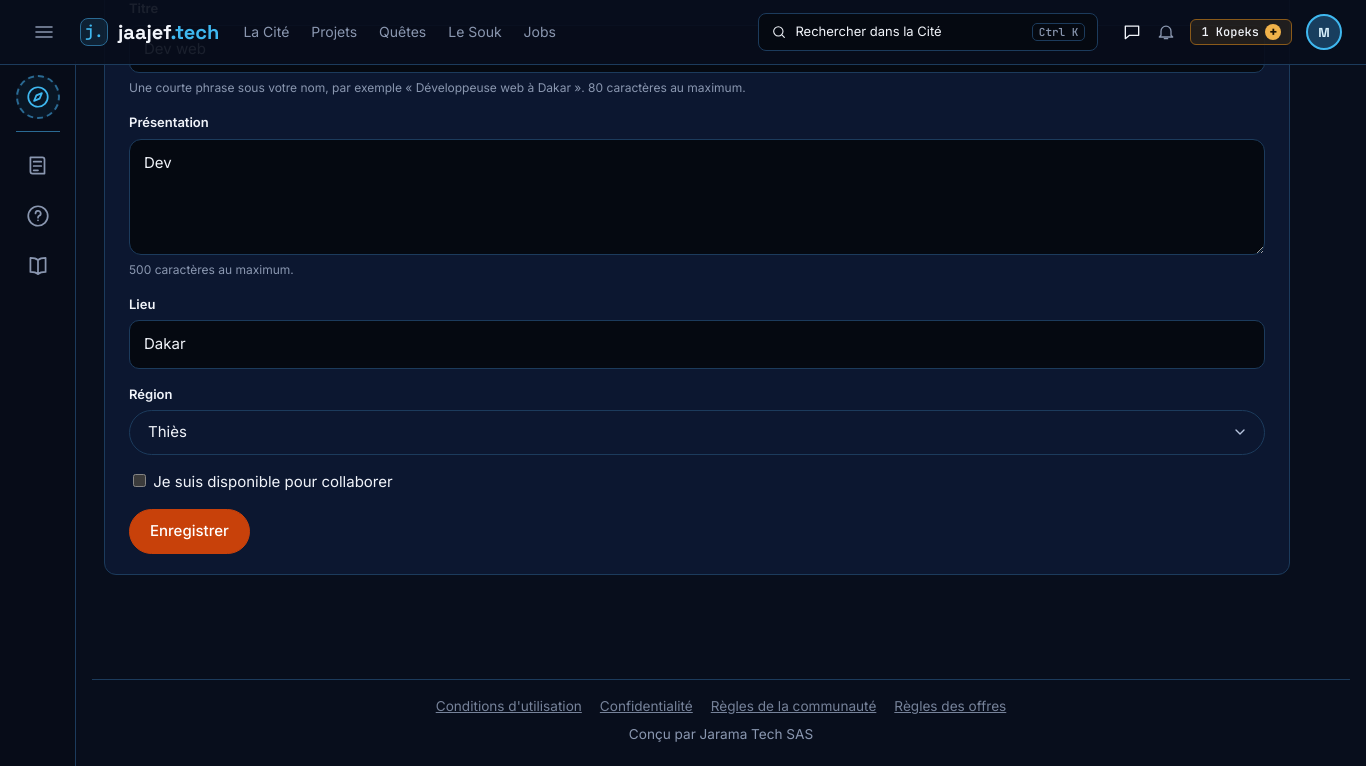
Test: Edit profile › shows a refusal and does not claim it saved
(page scrolled)
Click the button "Enregistrer" at (189, 531), box [129,509,250,554]
(page scrolled)
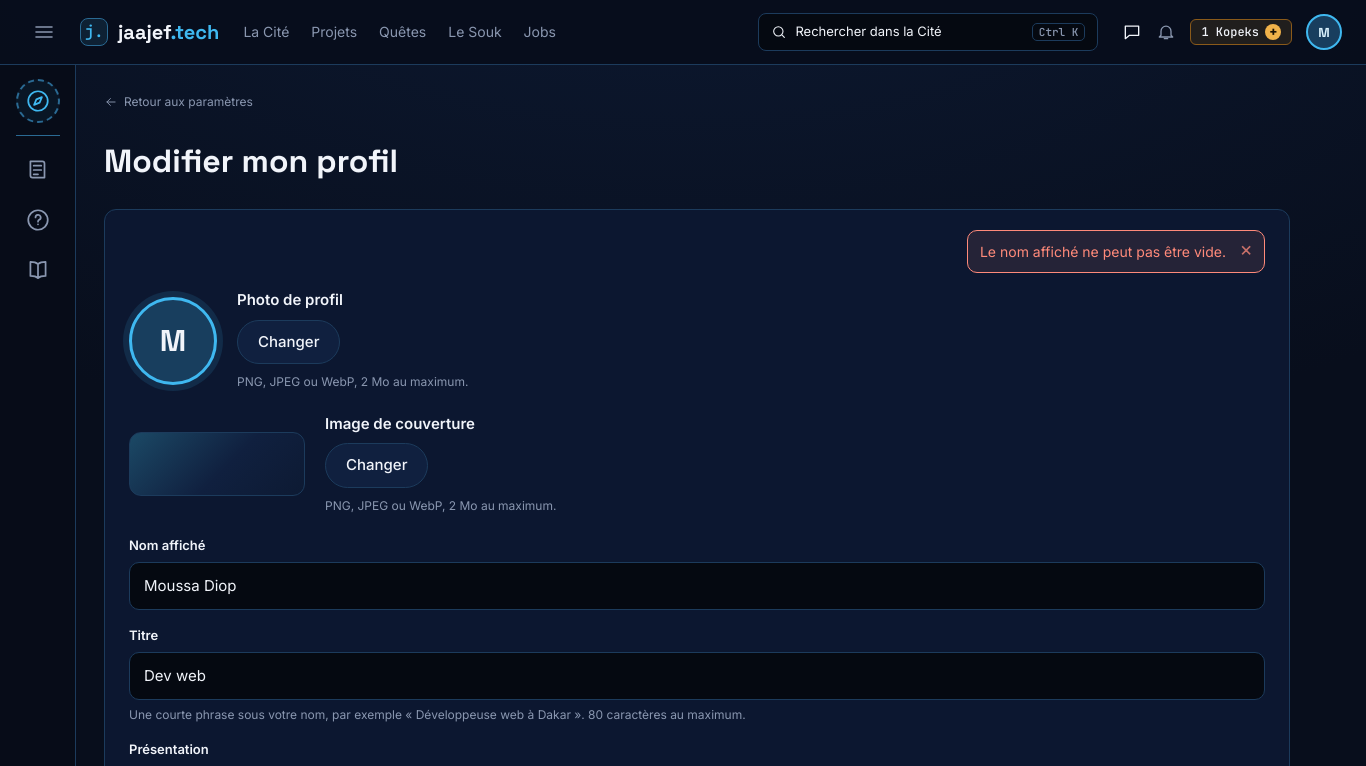
Check: the message shows "ne peut pas être vide", box [980,243,1226,260]
